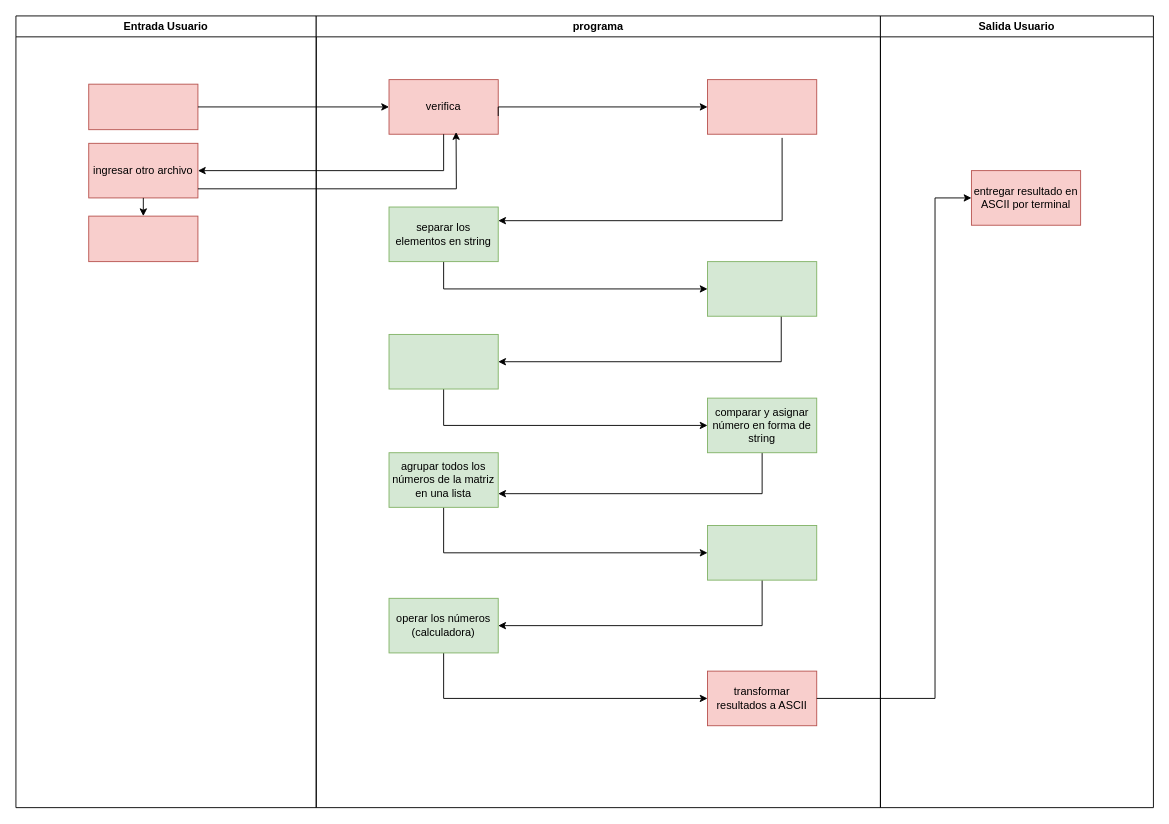
Image size: 1169x824. Some labels were removed from this diagram. The shapes that lost their labels are listed below. From the top down, each one's box as (x1, y1, x2, y2) in pixels, then its label:
(88, 83, 198, 130): Ingresar Archivo de Texto
(707, 79, 817, 134): ordenar el contenido a una lista
(88, 215, 198, 262): error
(707, 261, 817, 316): agrupar de 5 elementos
(388, 334, 498, 389): re ordenar matrtiz
(707, 525, 817, 580): a cada string se le asigna un valor numerico
